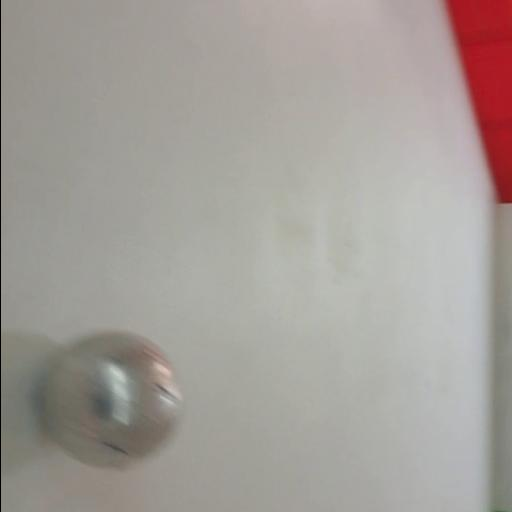alive: (36, 326, 188, 476)
